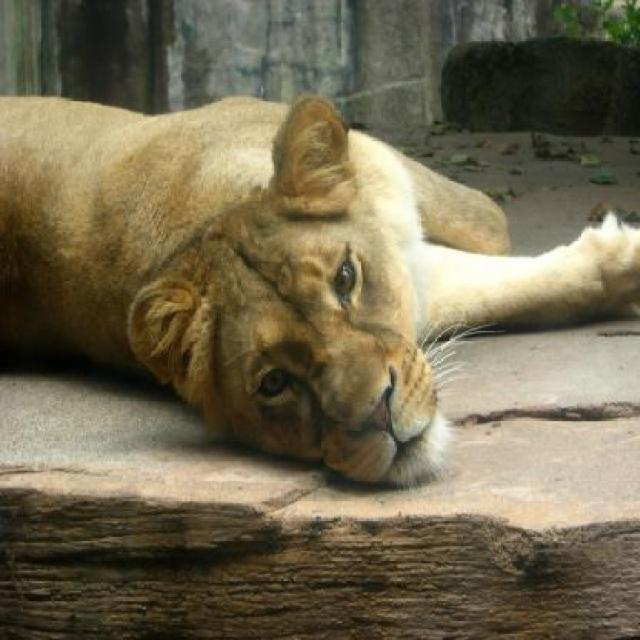Lion: (1, 43, 637, 514)
